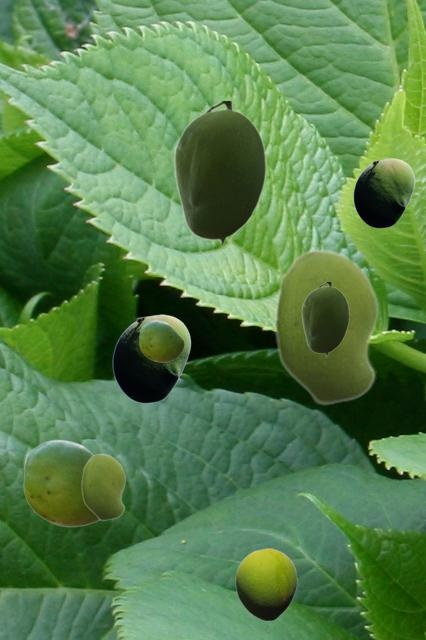green_mango: (274, 248, 378, 405), (173, 101, 265, 246), (112, 314, 190, 402), (23, 439, 98, 526), (235, 548, 296, 620), (353, 158, 414, 227), (301, 282, 348, 356), (81, 453, 125, 520), (139, 320, 183, 361)
